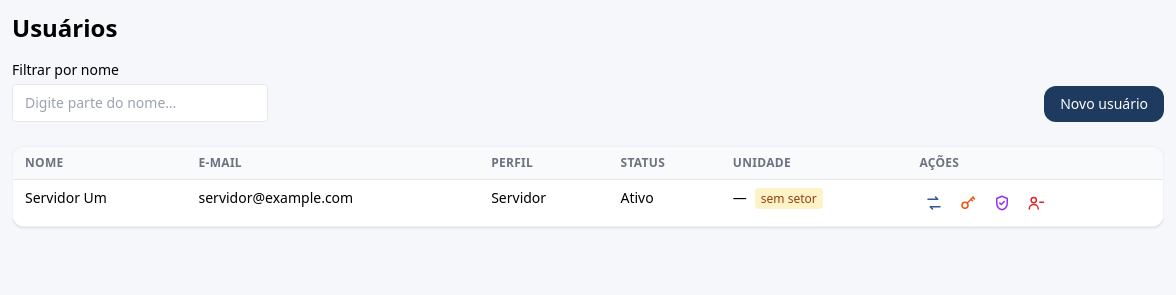
Test: AdminUsuariosPage — ações de auditoria e desativação (US 8.3/8.4) › exibe a mensagem de guarda de processos pendentes quando a desativação é bloqueada
The width and height of the screenshot is (1176, 295).
expect the text "Servidor Um" is shown: met, box [13,180,186,226]
Click the button named "Desativar Usuário" at (1036, 203), box [1021,188,1051,218]
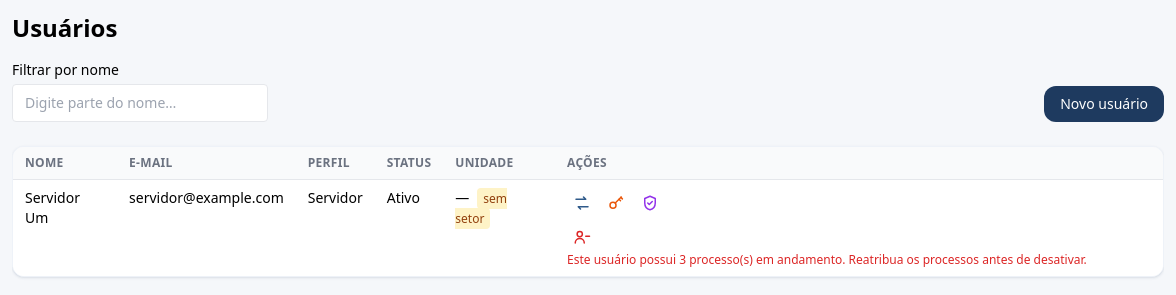
expect the text "Este usuário possui 3 processo(s) em andamento" is shown: met, box [567,251,1087,268]
